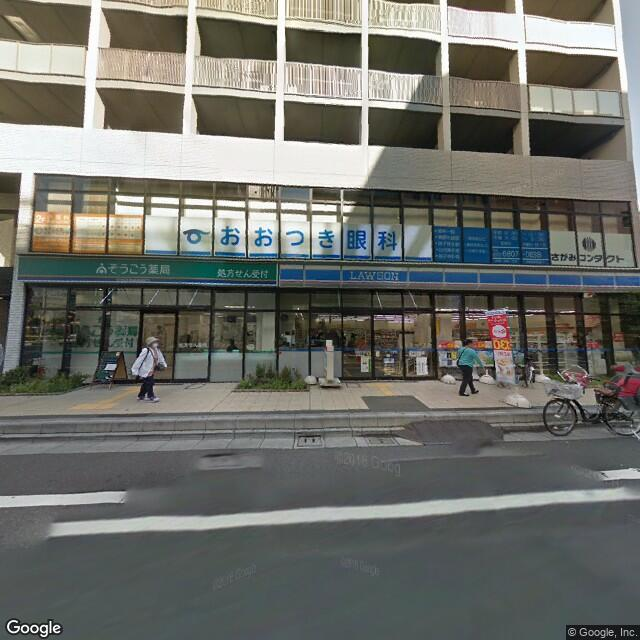lawson: (282, 257, 640, 295)
